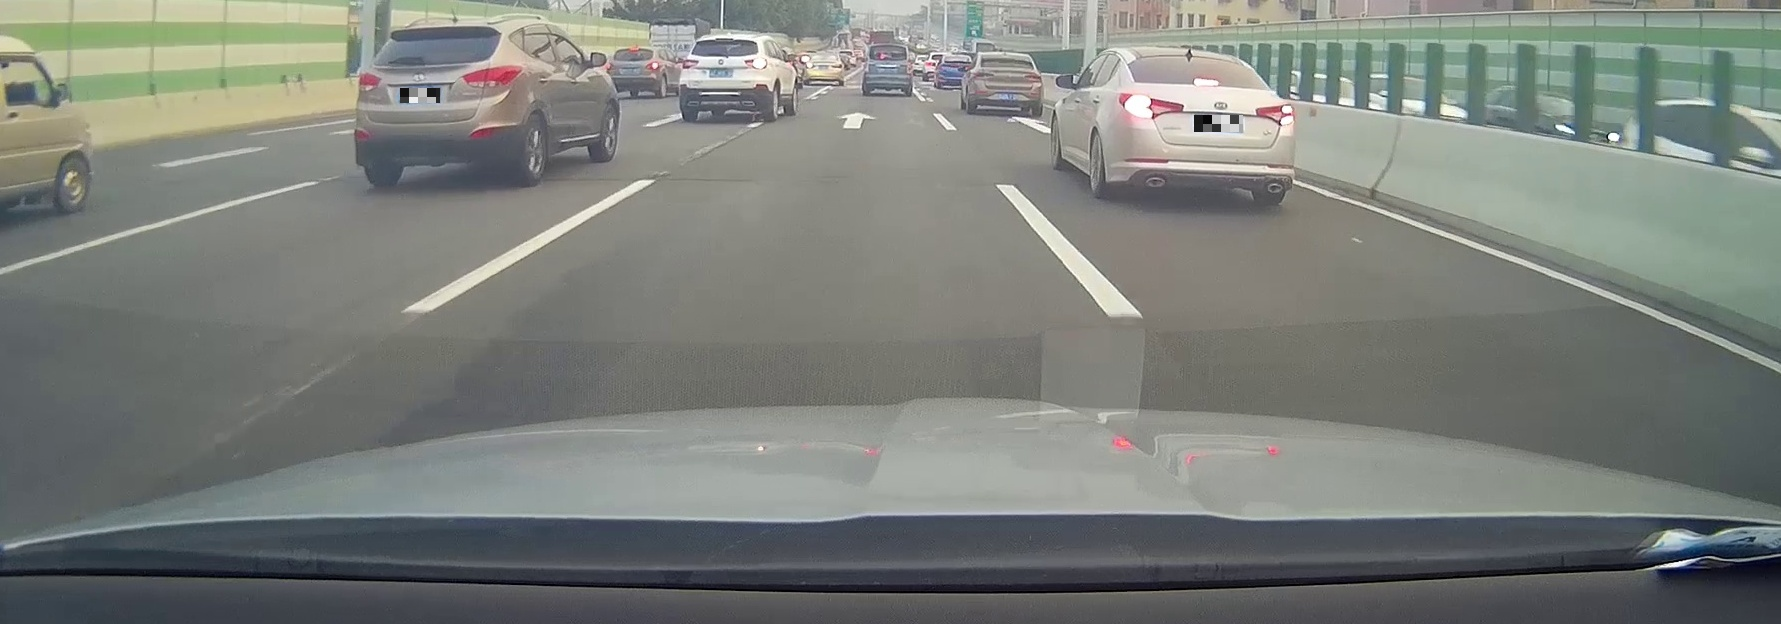L_light: (1119, 93, 1184, 118), (358, 70, 381, 92), (682, 59, 699, 69), (975, 72, 994, 78), (607, 63, 611, 69)
R_light: (463, 65, 522, 85), (1256, 105, 1294, 124), (745, 58, 766, 69), (1025, 73, 1042, 80), (646, 63, 659, 70)
T_light: (1194, 78, 1219, 86), (429, 30, 450, 34), (720, 40, 731, 43), (1002, 58, 1012, 61), (630, 48, 639, 51)
day-brake: (1117, 50, 1295, 203), (607, 47, 660, 98)
day-no: (354, 22, 524, 186), (970, 53, 1043, 116)
day-right: (679, 36, 768, 120)
plate_1: (400, 88, 440, 103)
plate_2: (1194, 115, 1243, 132)
